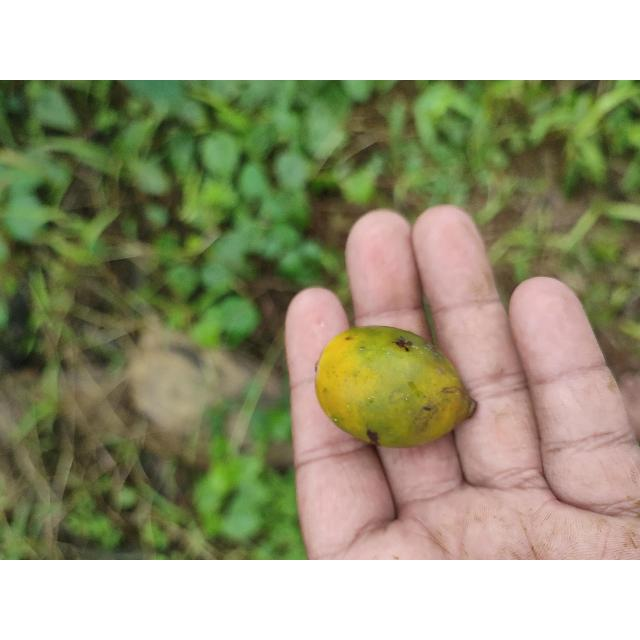good: (314, 326, 477, 449)
